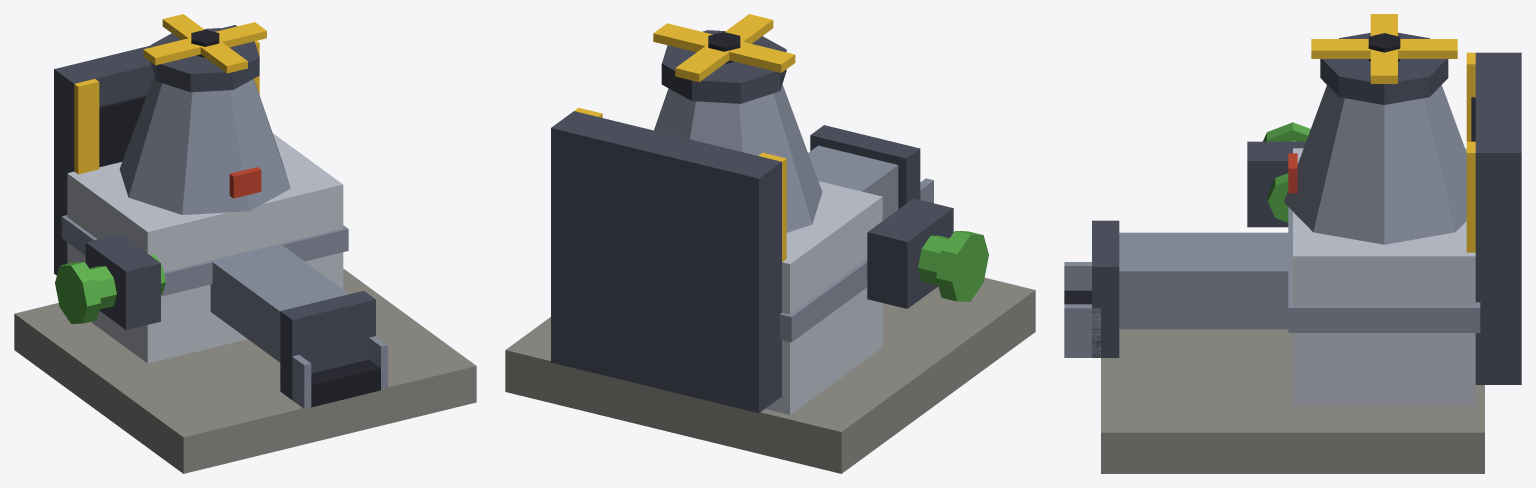
Rendered from extractor.glb.
3 renders of one model, left to right at view 1: azimuth 30°, elevation 25°; view 2: azimuth 150°, elevation 25°; view 3: azimuth 270°, elevation 25°, orthographic. The views are drawn at different scales.
Parts seen in each view (by area): view 1: extractor, spin-up; view 2: extractor, spin-up; view 3: extractor, spin-up.
Part boxes in pixels (left/top/right/bottom): extractor: left=14, top=25, right=476, bottom=473; spin-up: left=143, top=14, right=266, bottom=73; extractor: left=505, top=30, right=1035, bottom=473; spin-up: left=653, top=14, right=795, bottom=82; extractor: left=1064, top=32, right=1521, bottom=473; spin-up: left=1311, top=14, right=1457, bottom=83.
Size of the model in its own units: 0.92 by 0.85 by 1.
2 materials, 2 textured.
